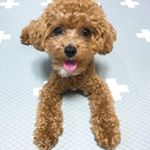puppy: (17, 1, 127, 150)
